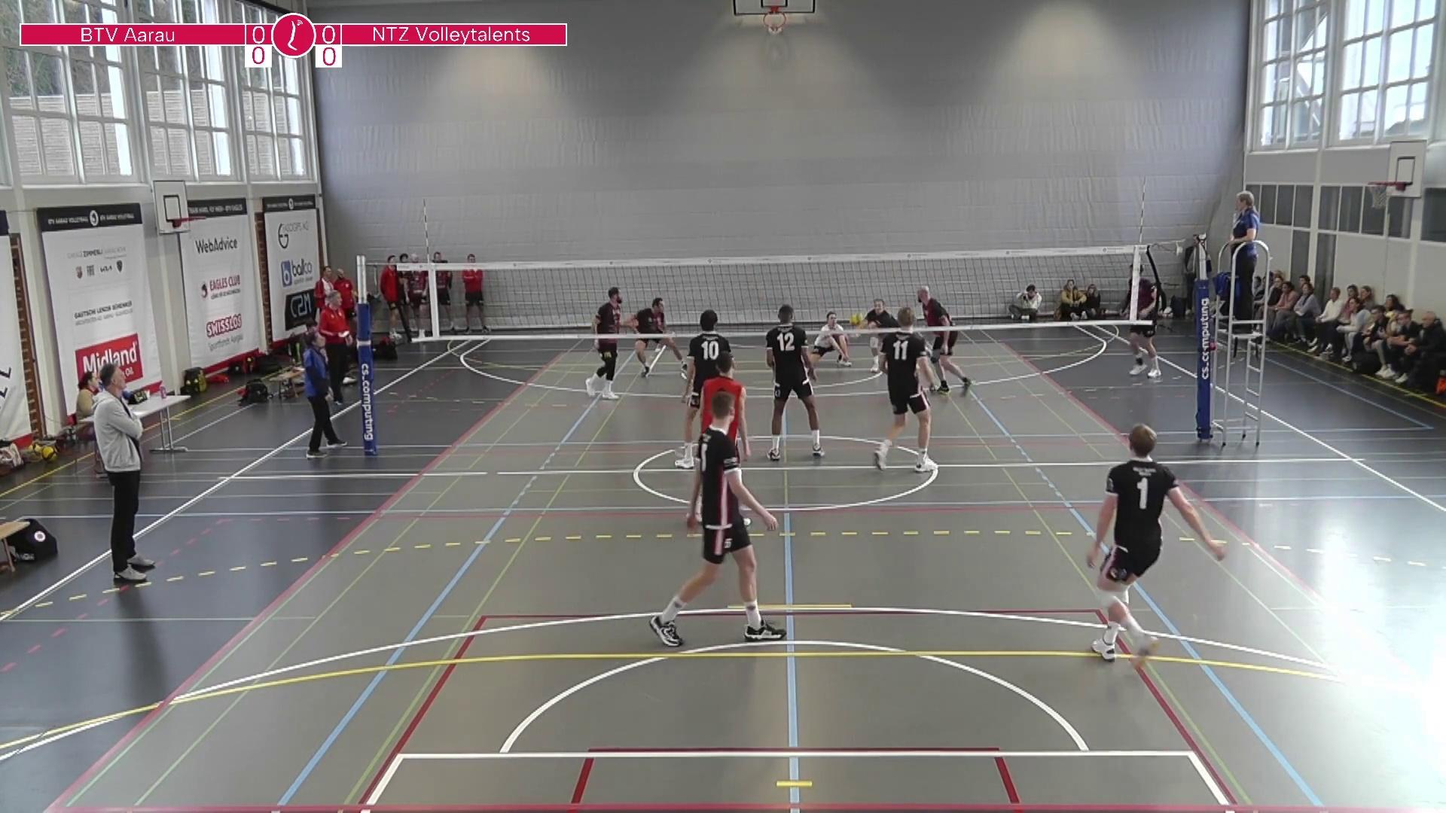Player: (650, 373, 786, 647), (1089, 425, 1226, 660), (873, 308, 937, 472), (764, 303, 824, 460), (680, 309, 732, 467), (917, 285, 973, 396), (584, 287, 624, 400), (1125, 260, 1161, 379), (632, 297, 673, 376)
Receive: (859, 296, 937, 373), (805, 308, 855, 370)
ball: (847, 310, 865, 330)
